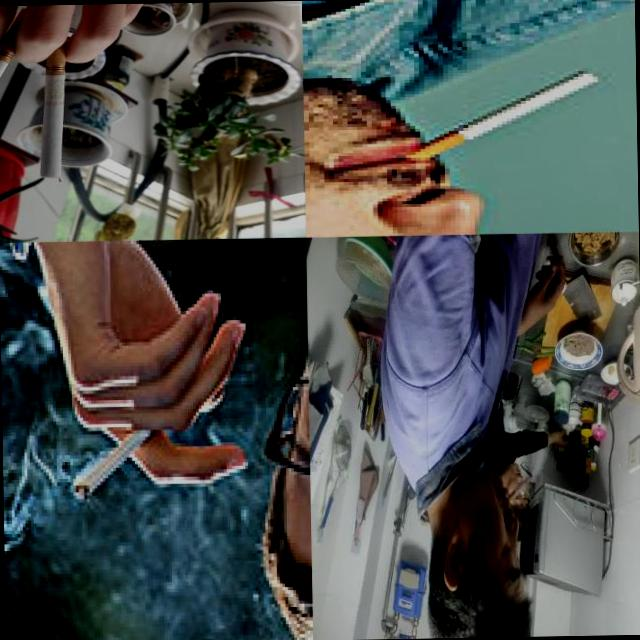cigarette: (402, 70, 602, 165), (66, 429, 154, 506), (0, 7, 36, 168), (36, 28, 70, 178), (506, 474, 530, 502)
